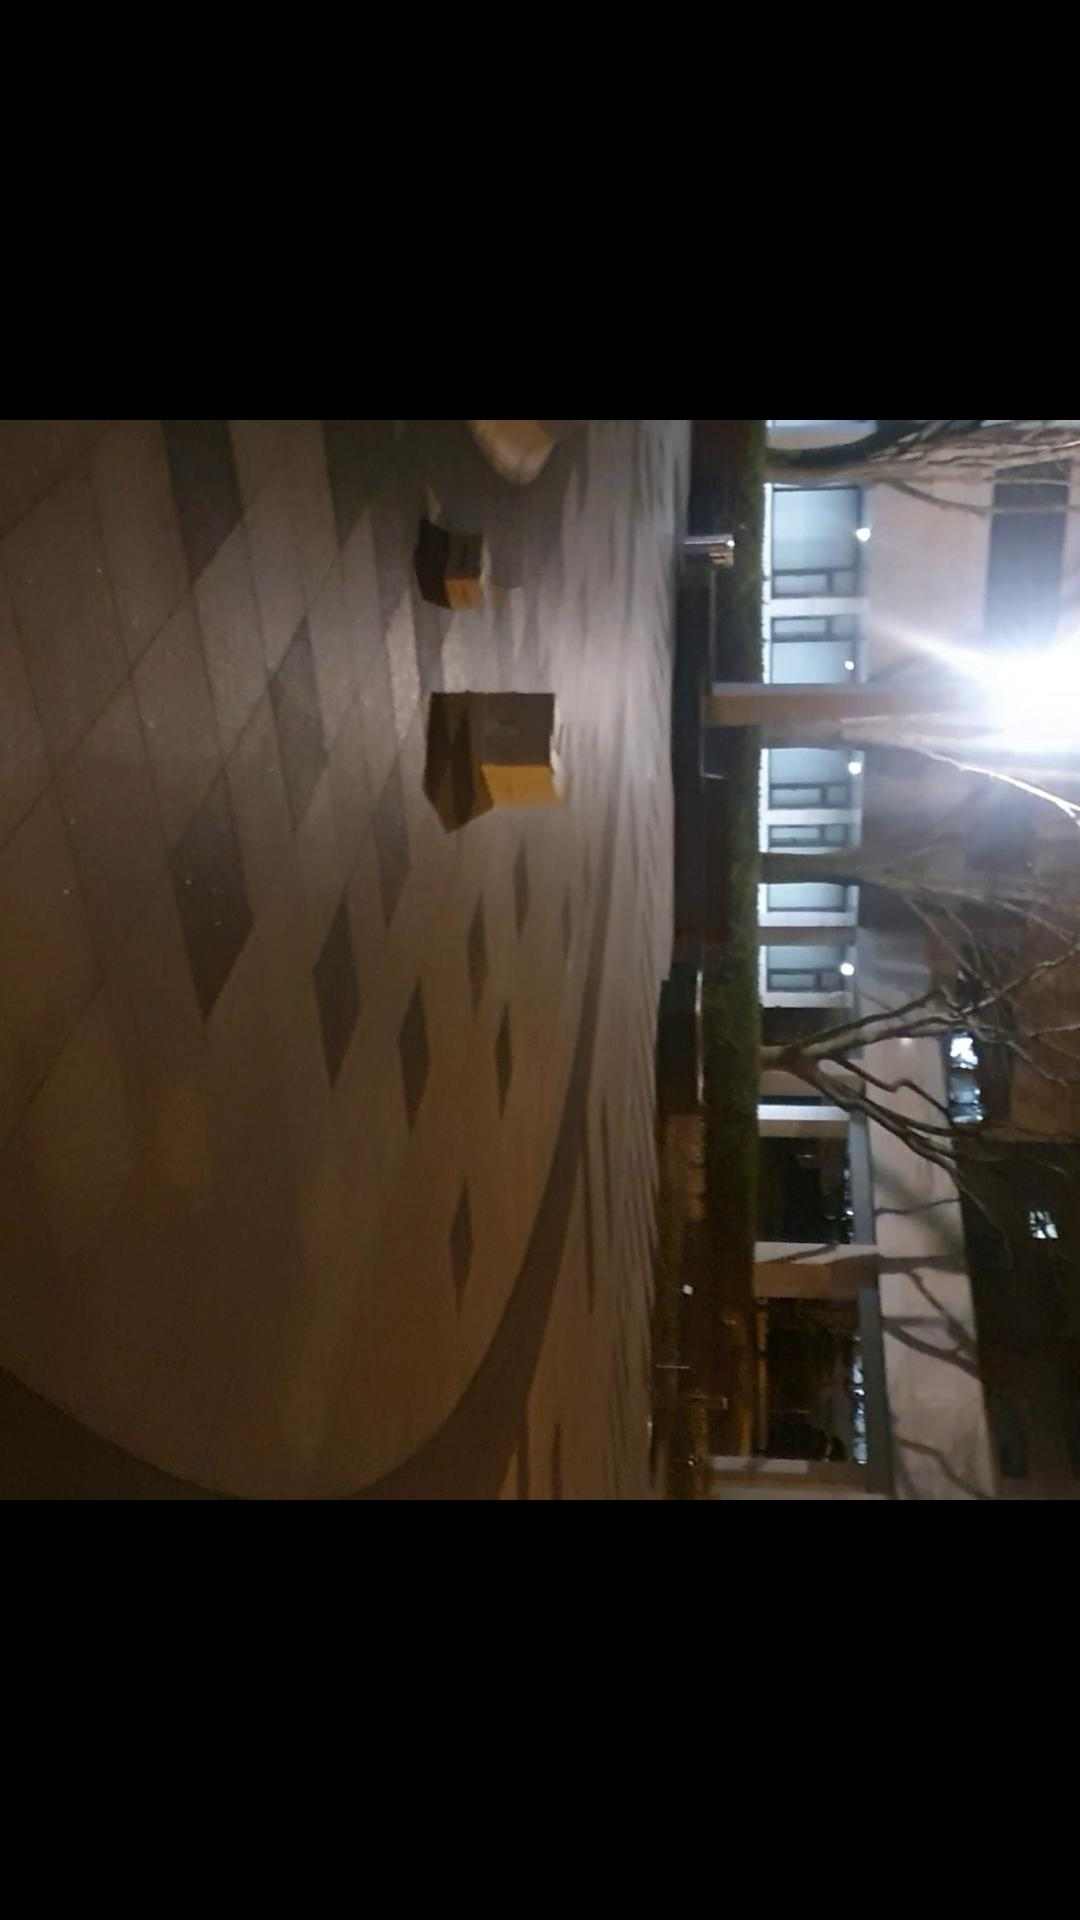Box: (442, 688, 578, 818), (433, 526, 510, 620)
